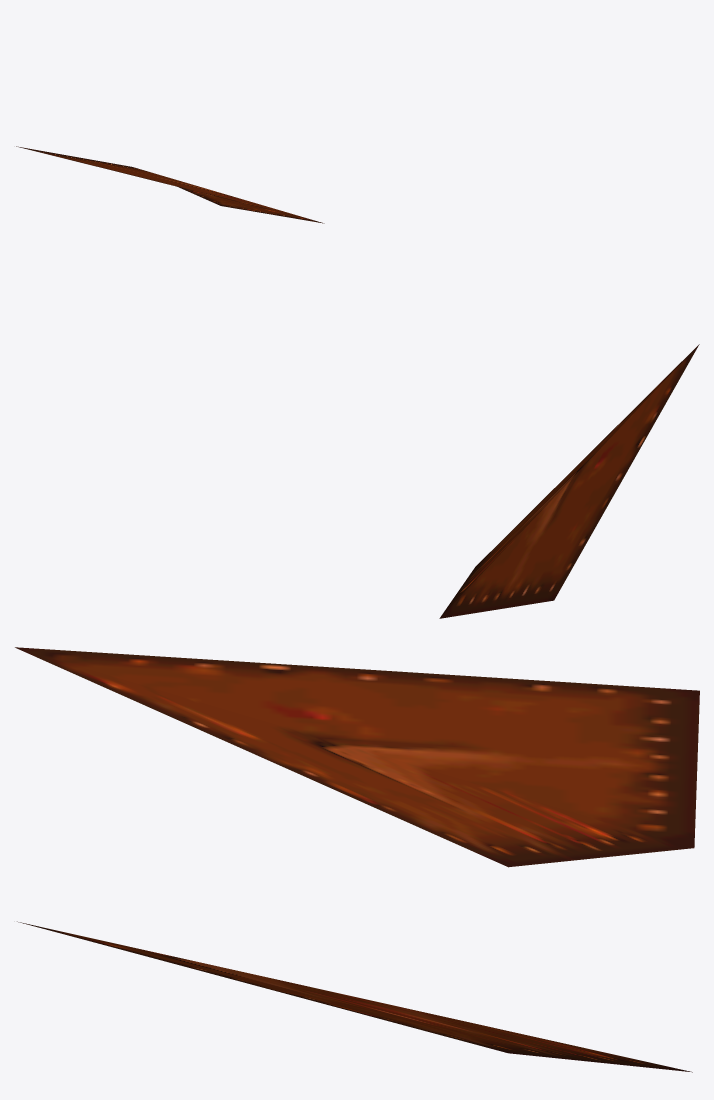
Rendered from Schiff_Heck8_1266.glb.
3 renders of one model, top to bottom at view 1: azimuth 30°, elevation 25°; view 2: azimuth 150°, elevation 25°; view 3: azimuth 270°, elevation 25°, orthographic. The views are drawn at different scales.
Parts seen in each view (by area): view 1: pPlaneShape22; view 2: pPlaneShape22; view 3: pPlaneShape22, pPlaneShape43.
Part boxes in pixels (bbox=[...]): pPlaneShape22: bbox=[16, 146, 324, 223]; pPlaneShape22: bbox=[439, 344, 699, 618]; pPlaneShape22: bbox=[15, 647, 699, 867]; pPlaneShape43: bbox=[17, 921, 692, 1072].
Bounding box in the file's own units: 2.04 × 0.4233 × 1.49.
2 materials, 2 textured.
